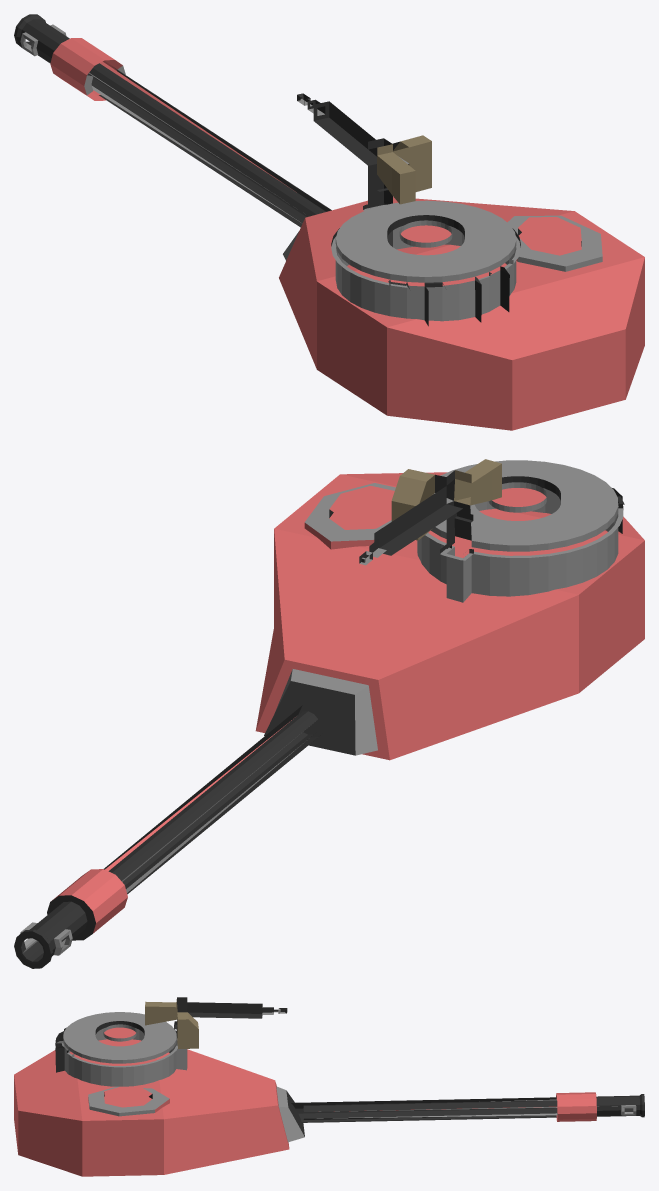
File: machinegun.fbx
The picture shows the model from 3 angles, top to bottom: view 1: azimuth 30°, elevation 25°; view 2: azimuth 150°, elevation 25°; view 3: azimuth 270°, elevation 25°; orthographic projection. The views are drawn at different scales.
Parts seen in each view (by area): view 1: Cube.002; view 2: Cube.002; view 3: Cube.002.
Boxes of the visible parts, left/top/right/bottom form: Cube.002: left=14, top=14, right=644, bottom=430; Cube.002: left=14, top=459, right=644, bottom=968; Cube.002: left=14, top=997, right=644, bottom=1176.
Bounding box in the file's own units: 463 × 310 × 1480.
